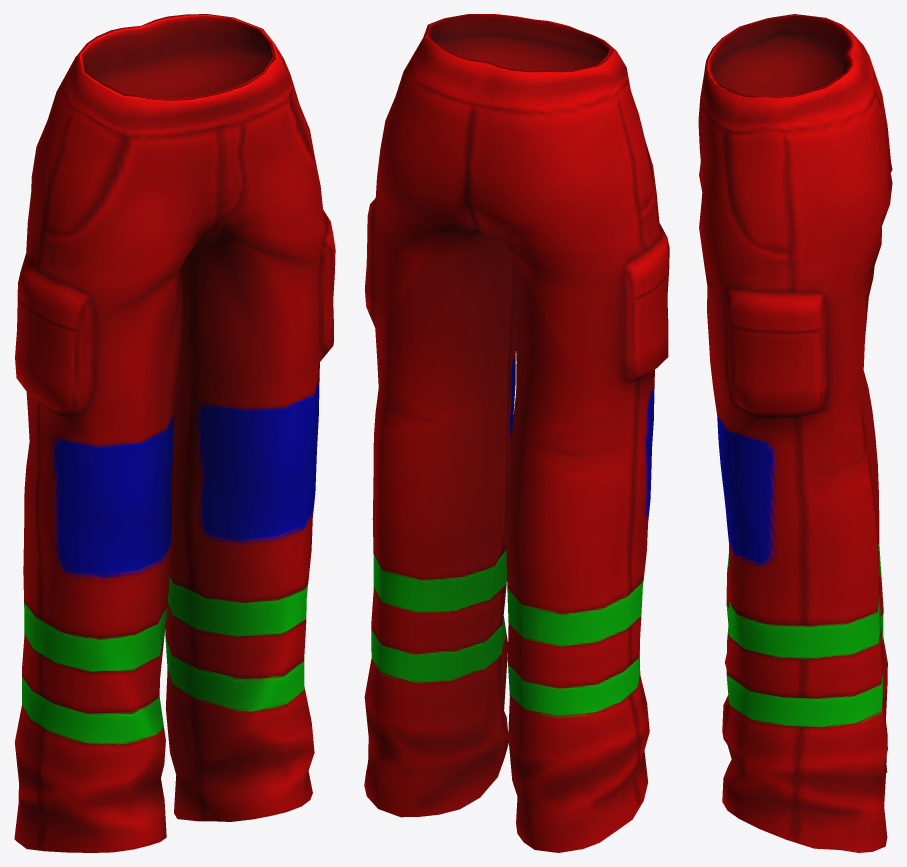
The model's file is Bottom_FireFighter.obj.
3 renders of one model, left to right at view 1: azimuth 30°, elevation 25°; view 2: azimuth 150°, elevation 25°; view 3: azimuth 270°, elevation 25°, orthographic. The views are drawn at different scales.
Visible parts, largest first — view 1: Bottom_FireFighter_0; view 2: Bottom_FireFighter_0; view 3: Bottom_FireFighter_0.
Boxes of the visible parts, <box> form: Bottom_FireFighter_0: <box>14,14,335,852</box>; Bottom_FireFighter_0: <box>364,14,669,852</box>; Bottom_FireFighter_0: <box>698,14,892,852</box>.
Bounding box in the file's own units: 0.4016 × 1.04 × 0.2433.
1 material, 1 textured.
